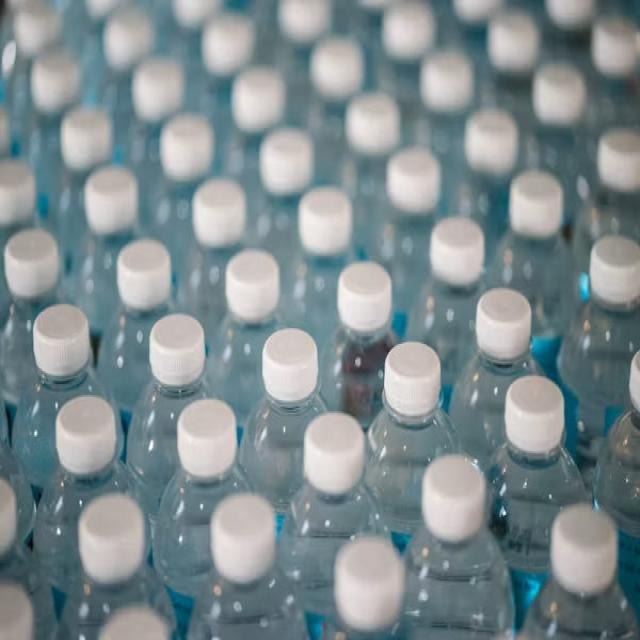Bottle: (486, 376, 587, 628), (279, 413, 386, 638), (153, 400, 249, 636), (34, 396, 130, 614), (558, 236, 639, 487), (405, 455, 515, 639), (366, 343, 459, 551), (126, 314, 210, 535), (12, 304, 109, 495), (239, 328, 326, 534), (487, 170, 573, 377), (188, 493, 308, 639), (57, 493, 174, 639), (450, 288, 539, 468), (524, 506, 639, 639), (407, 216, 484, 411), (98, 240, 171, 428), (208, 250, 280, 435), (66, 167, 138, 345), (374, 148, 441, 337), (322, 263, 396, 428), (594, 354, 639, 615), (283, 188, 353, 355), (572, 128, 639, 302), (44, 108, 113, 276), (221, 66, 285, 244), (178, 178, 246, 343), (0, 229, 59, 419), (523, 63, 591, 227), (446, 109, 518, 259), (336, 93, 401, 257), (125, 56, 184, 233), (22, 52, 81, 225), (150, 114, 214, 271), (259, 0, 333, 126), (256, 128, 313, 289), (322, 536, 409, 639), (420, 48, 474, 211), (0, 479, 55, 639), (376, 0, 436, 145), (3, 2, 61, 151), (199, 12, 255, 164), (307, 36, 364, 185), (100, 7, 154, 161), (585, 13, 639, 161), (479, 8, 540, 131), (159, 0, 223, 110), (63, 0, 130, 105), (0, 160, 36, 318), (439, 0, 504, 78), (335, 0, 393, 86), (541, 0, 596, 73), (0, 432, 36, 542), (99, 605, 171, 639), (0, 581, 35, 639), (0, 108, 11, 158)
